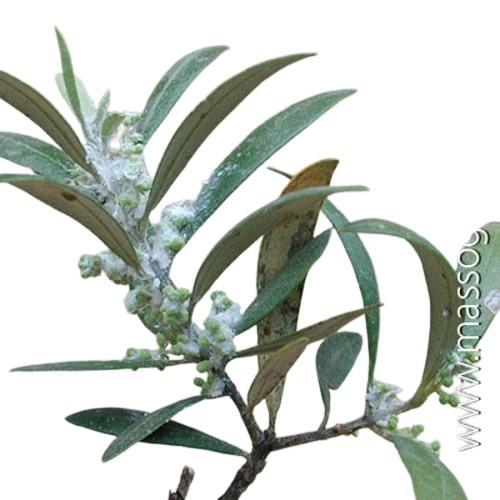Psyllid: (61, 98, 188, 277), (120, 282, 240, 398), (364, 373, 404, 434)
